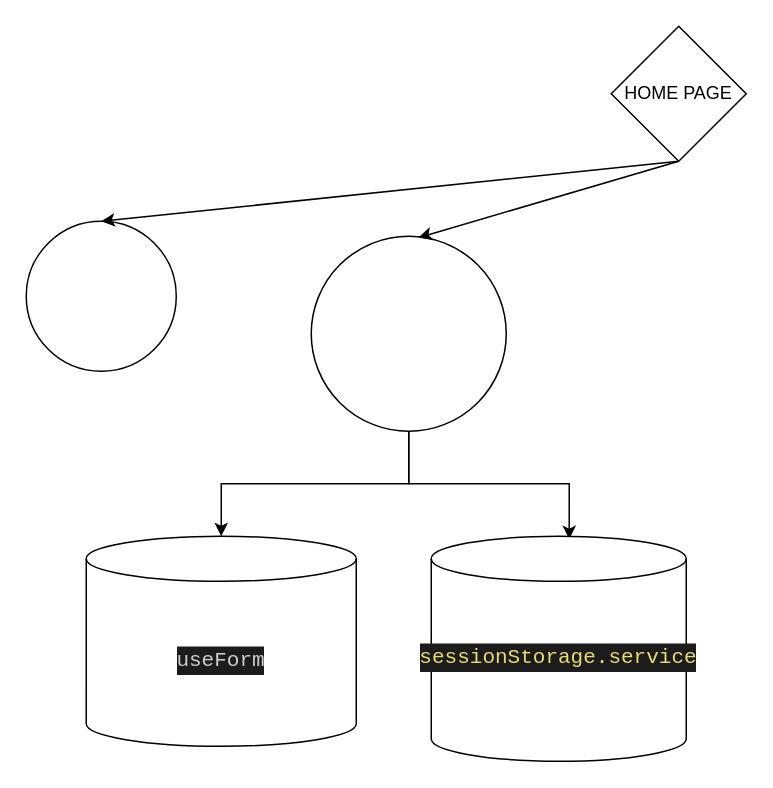
The diagram is 773 pixels wide and 788 high, and some of its shapes have lost their labels. The shapes that lost their labels are listed below. From the top down, each one's centre as x and y in pixels, then its label:
At (100,295): "HOMEPAGE.TSX".
At (408,333): "SearchRoomsForm.tsx".
